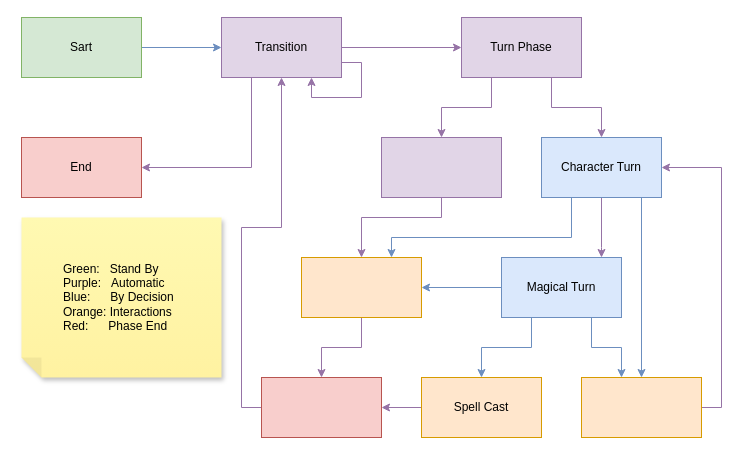
Image size: 747x455. Some labels were removed from this diagram. Here are the shapes that lost their labels. From the top down, the centre of each, then its label:
(x=441, y=167): Enemy Turn
(x=361, y=287): Normal Attack
(x=321, y=407): End Turn
(x=641, y=407): Equip
